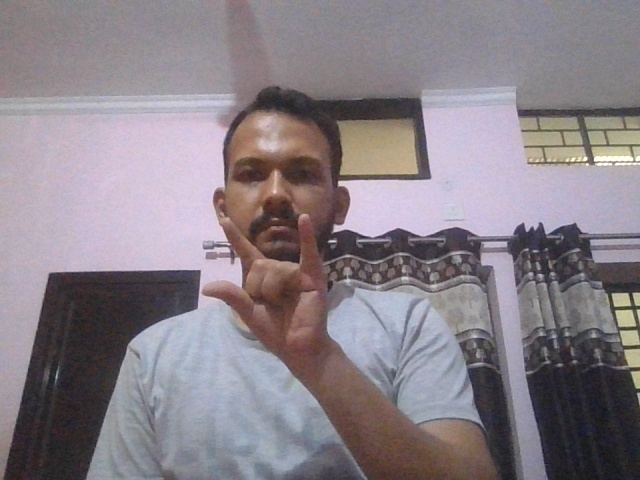iloveyou: (202, 214, 333, 359)
